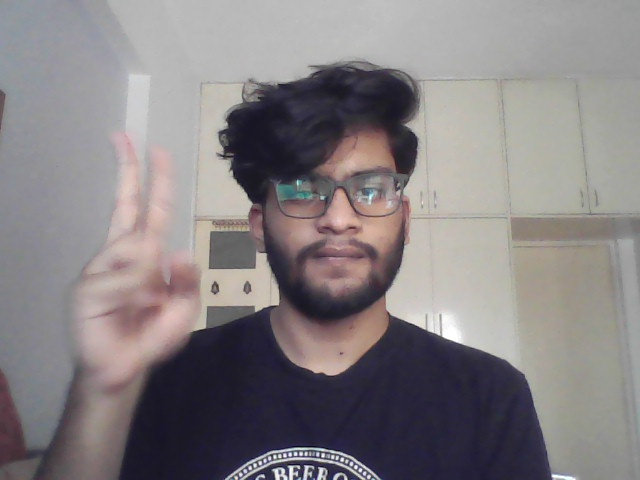Peace: (61, 126, 207, 391)
